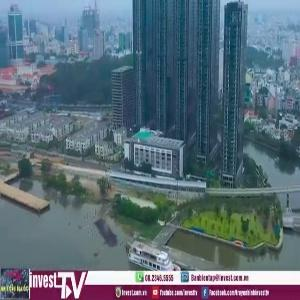drone: (72, 188, 159, 275)
